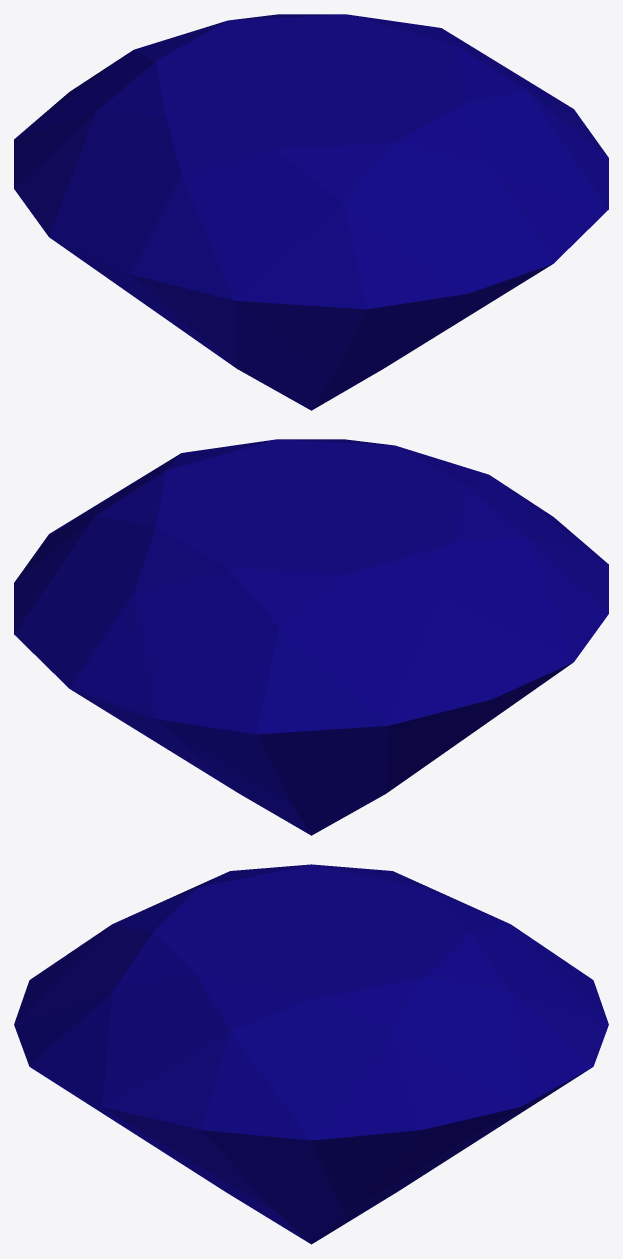
Rendered from Sapphire.fbx.
3 views of the same model, one above another, from view 1: azimuth 30°, elevation 25°; view 2: azimuth 150°, elevation 25°; view 3: azimuth 270°, elevation 25° (orthographic). The views are drawn at different scales.
Parts seen in each view (by area): view 1: Plane; view 2: Plane; view 3: Plane.
Boxes of the visible parts, bbox=[...] form: Plane: bbox=[14, 14, 608, 410]; Plane: bbox=[14, 439, 608, 835]; Plane: bbox=[14, 864, 608, 1244].
Size of the model in its own units: 516 by 309 by 534.
